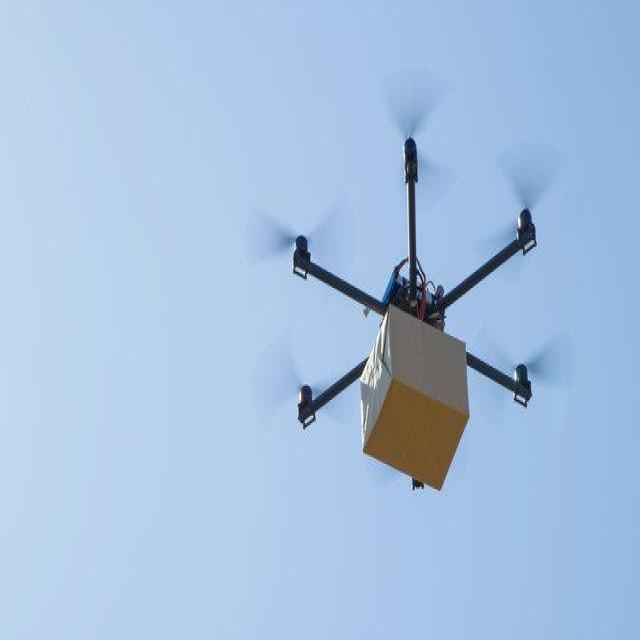box: (360, 305, 468, 489)
